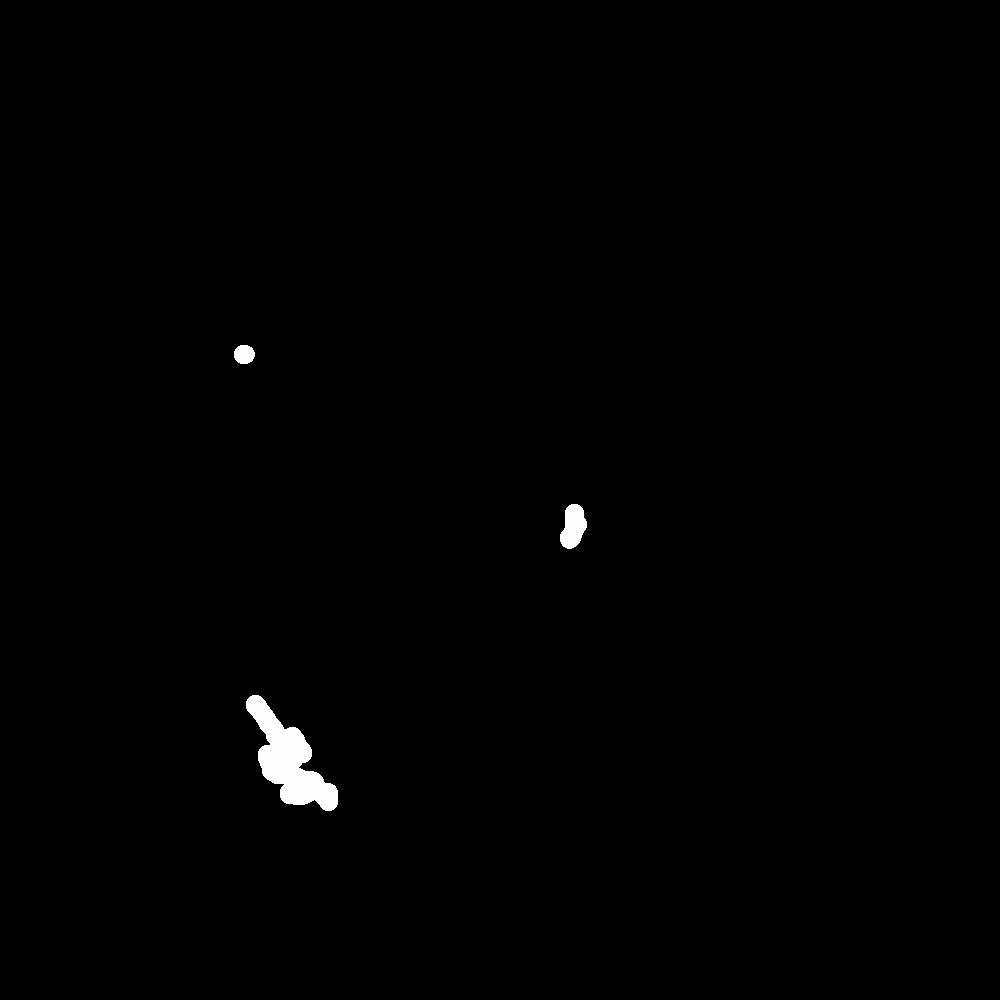illegal: (185, 624, 343, 837), (558, 510, 583, 543)
